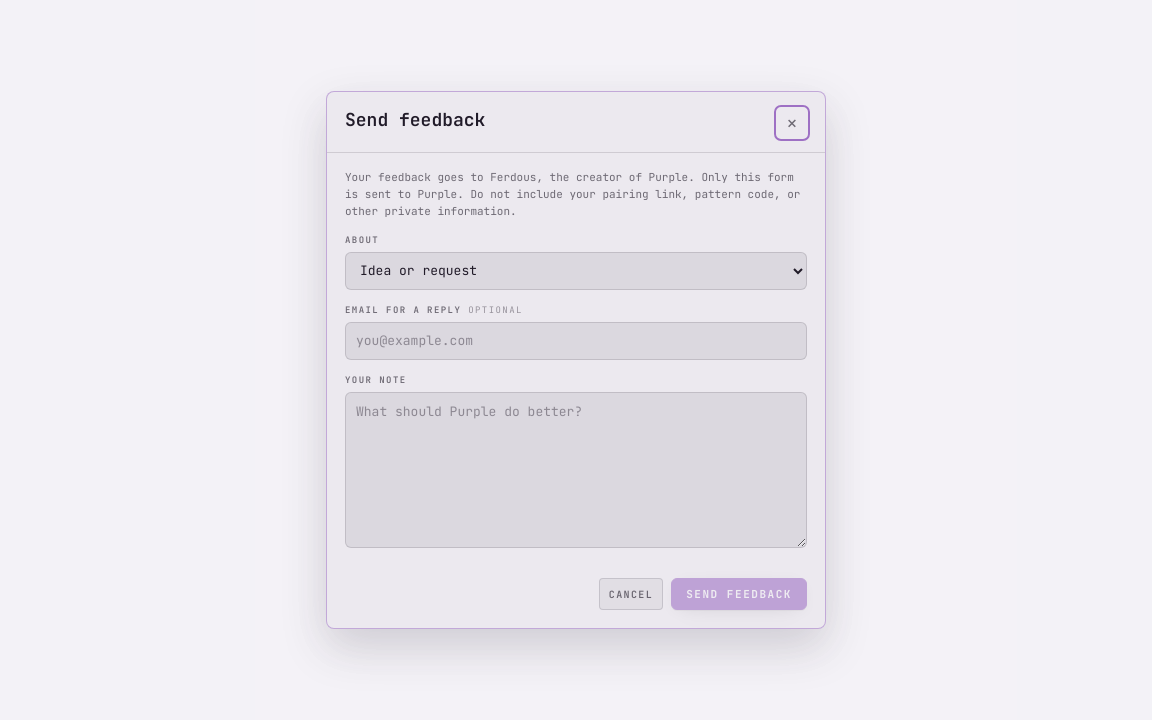
Test: feedback dialog › submits only the explicit form fields after Turnstile succeeds
This screenshot has width=1152, height=720.
Expected: the dialog "Send feedback" is shown, left=326, top=91, right=826, bottom=629
Expected: the text "Only this form is sent to Purple" is shown, left=345, top=170, right=800, bottom=218
Select "Something is broken" in the dropdown at (576, 271), box left=345, top=252, right=807, bottom=290
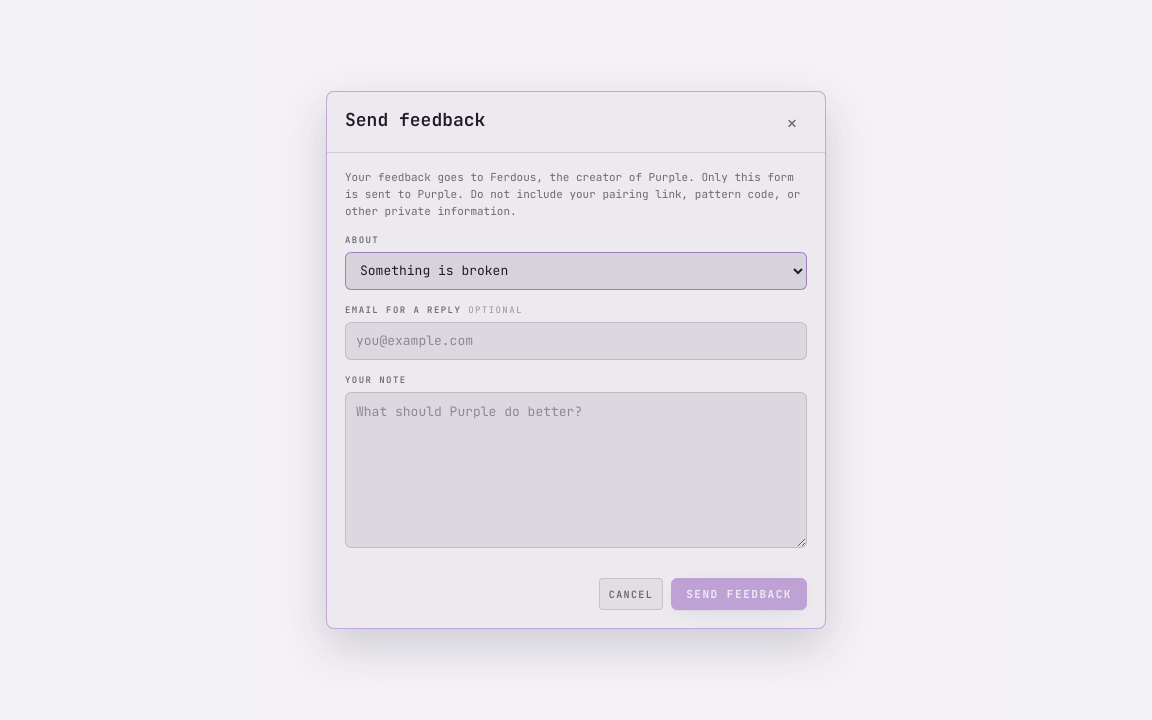
Type "listener@example.com" into the field with placeholder "you@example.com" at (576, 341), box left=345, top=322, right=807, bottom=360
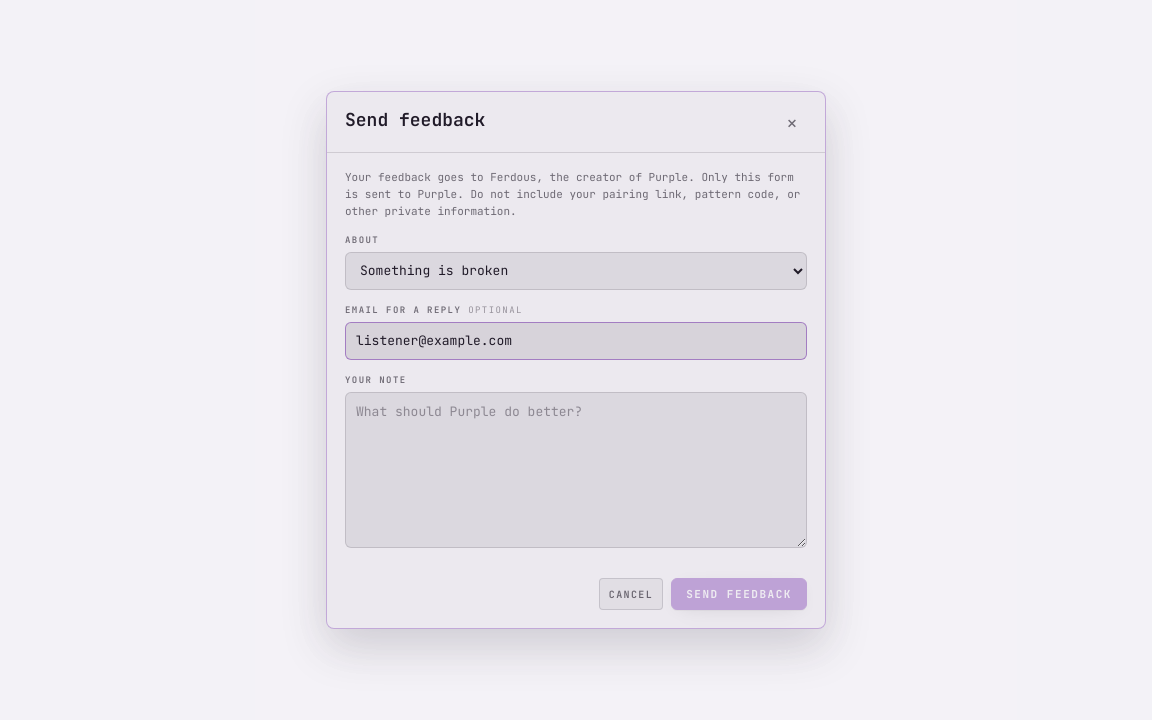
Type "Playback stopped twice." into the text box with placeholder "What should Purple do better?" at (576, 470), box left=345, top=392, right=807, bottom=548
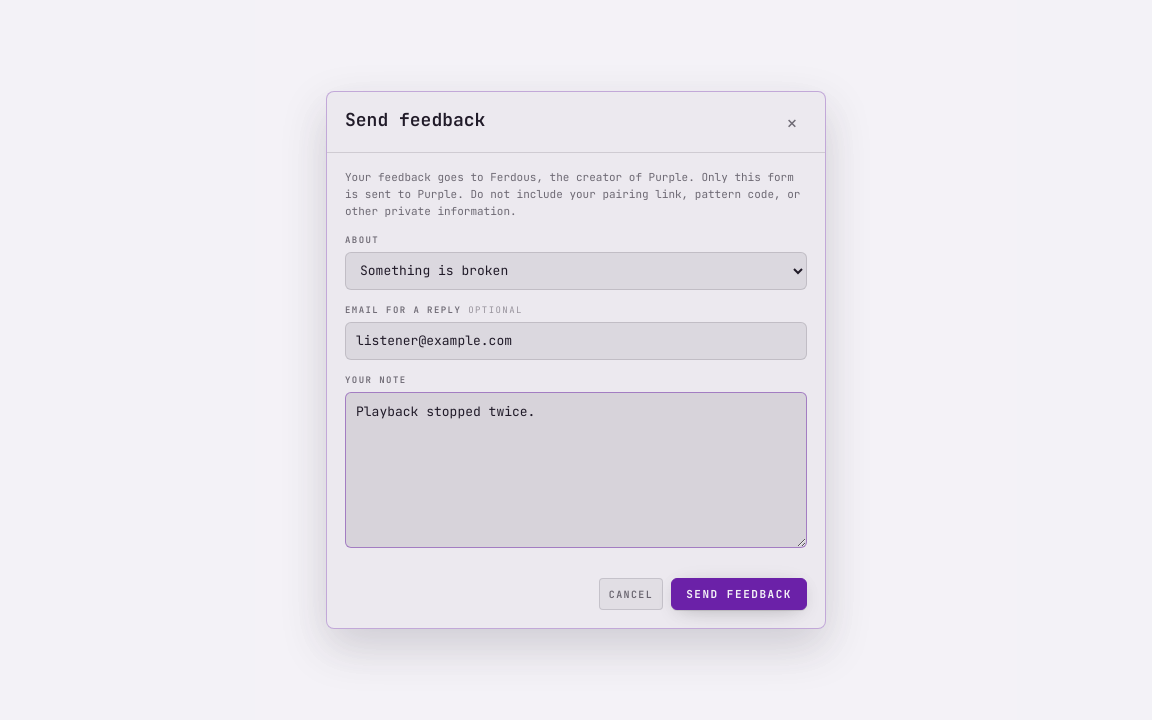
Expected: the button "SEND FEEDBACK" is enabled
Click the button "SEND FEEDBACK" at (739, 594), box left=671, top=578, right=807, bottom=610
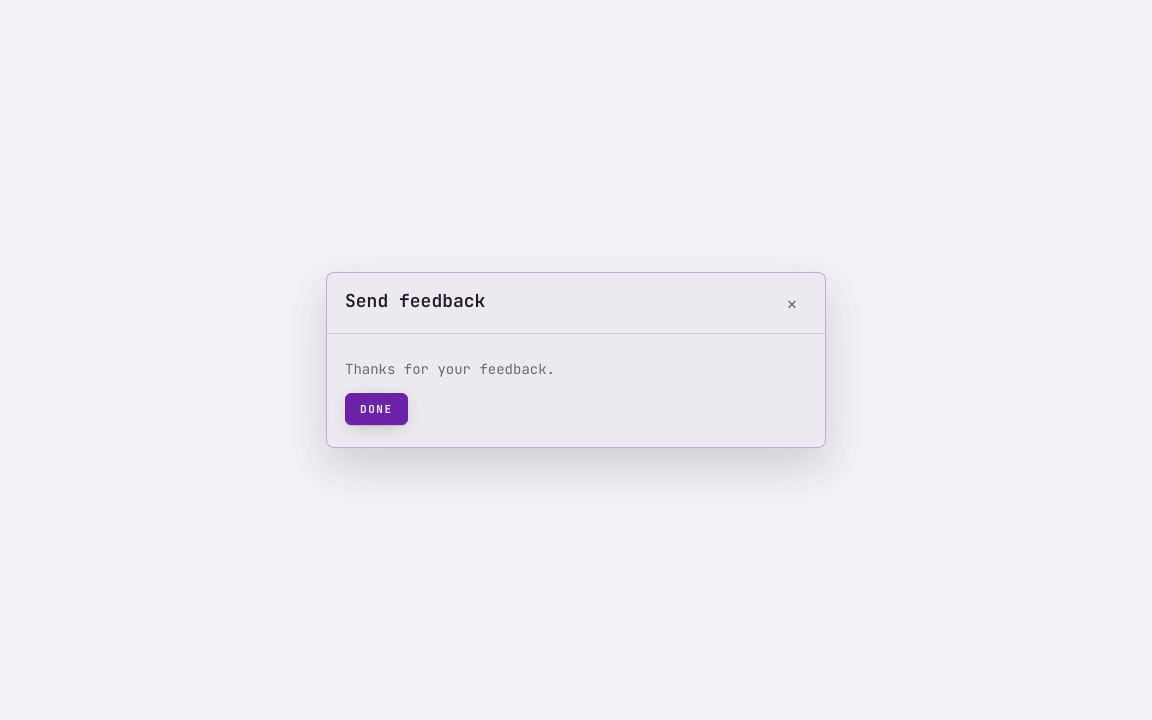
Expected: the text "Thanks for your feedback." is shown, left=345, top=360, right=555, bottom=378
